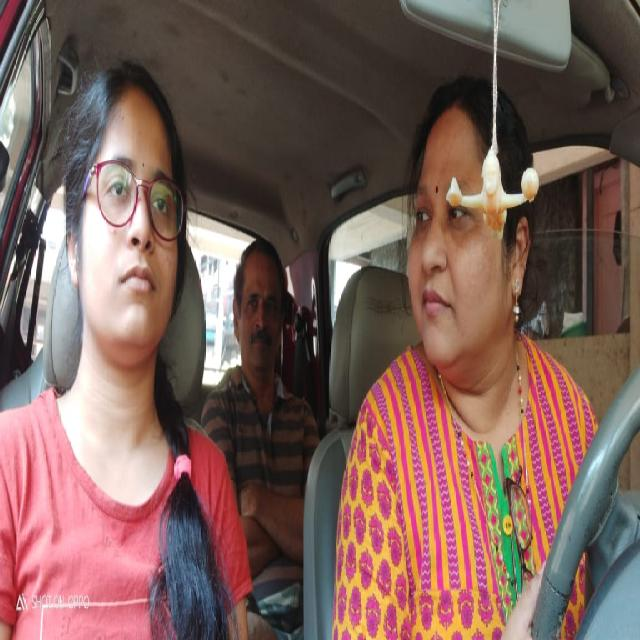LeftRight: (407, 96, 522, 371)
person: (58, 77, 193, 361), (230, 233, 288, 375)
